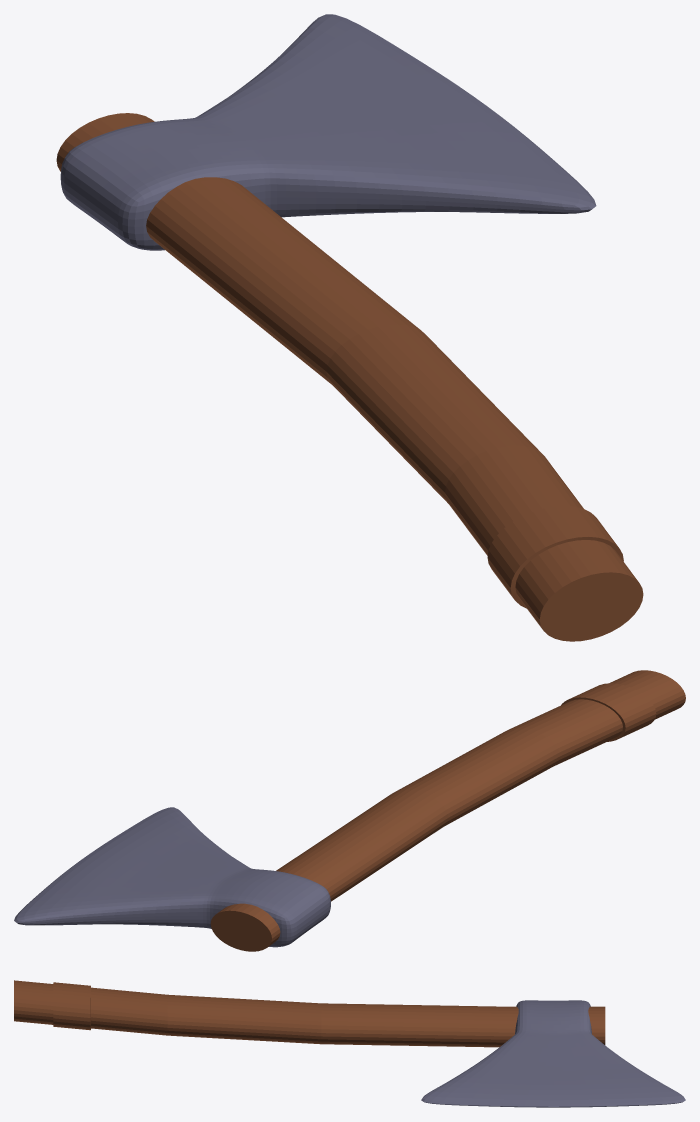
The model's file is Alloy Axe.fbx.
3 renders of one model, top to bottom at view 1: azimuth 30°, elevation 25°; view 2: azimuth 150°, elevation 25°; view 3: azimuth 270°, elevation 25°, orthographic. The views are drawn at different scales.
Visible parts, largest first — view 1: Cylinder, Cube; view 2: Cylinder, Cube; view 3: Cylinder, Cube.
Boxes of the visible parts, x1,y1,x2,y2 form: Cylinder: (56, 113, 643, 641); Cube: (60, 14, 596, 250); Cylinder: (210, 670, 685, 951); Cube: (14, 807, 330, 947); Cylinder: (14, 980, 605, 1047); Cube: (421, 1000, 685, 1107).
Bounding box in the file's own units: 729 × 107 × 1744.
